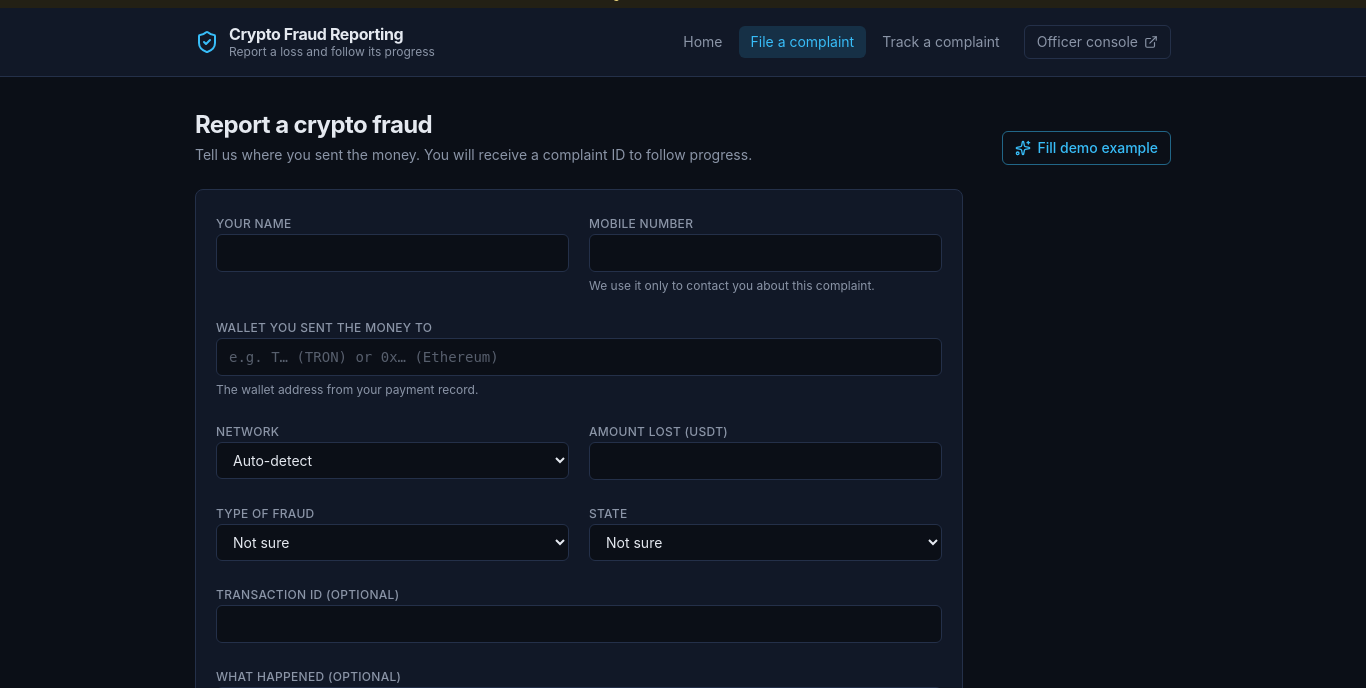
filing a complaint (citizen) › keeps Submit disabled until name, a 10 digit mobile and a wallet are given
The image size is (1366, 688).
In the field labelled "Your name": (392, 253) [216, 234, 569, 272], type "Asha"
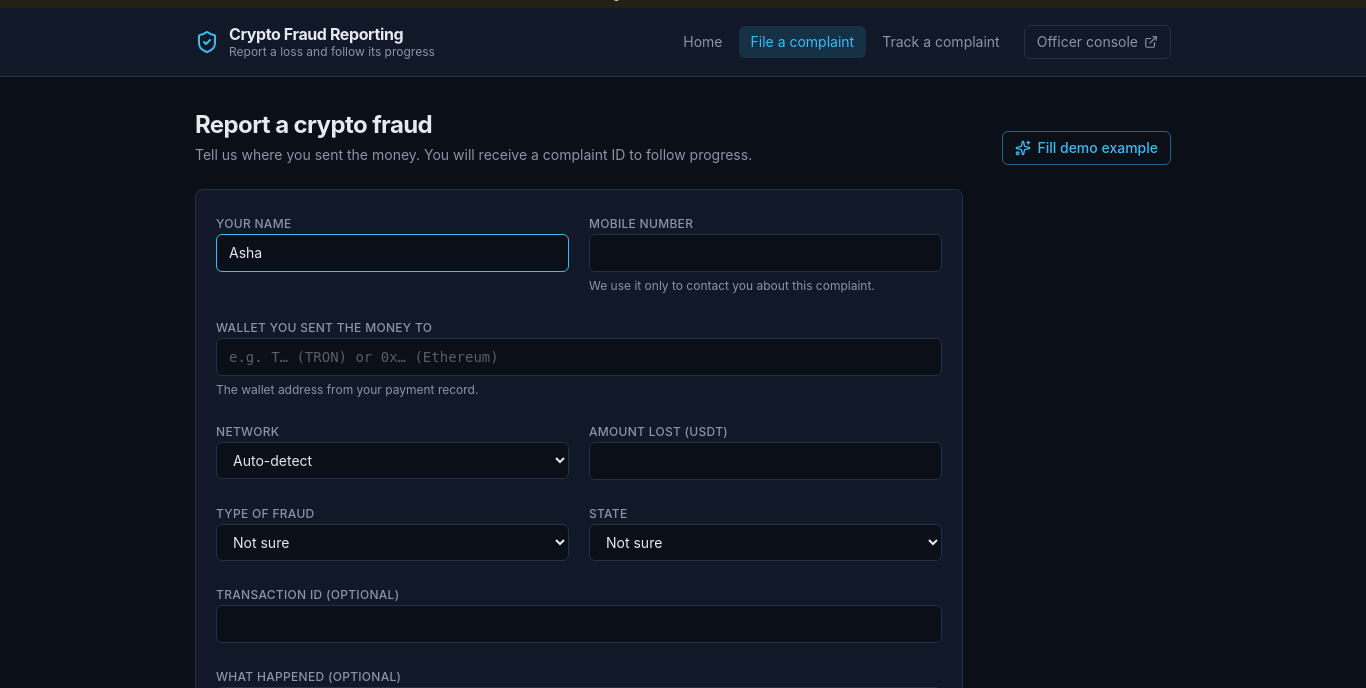
In the field labelled "Mobile number": (766, 253) [589, 234, 942, 272], type "98765"
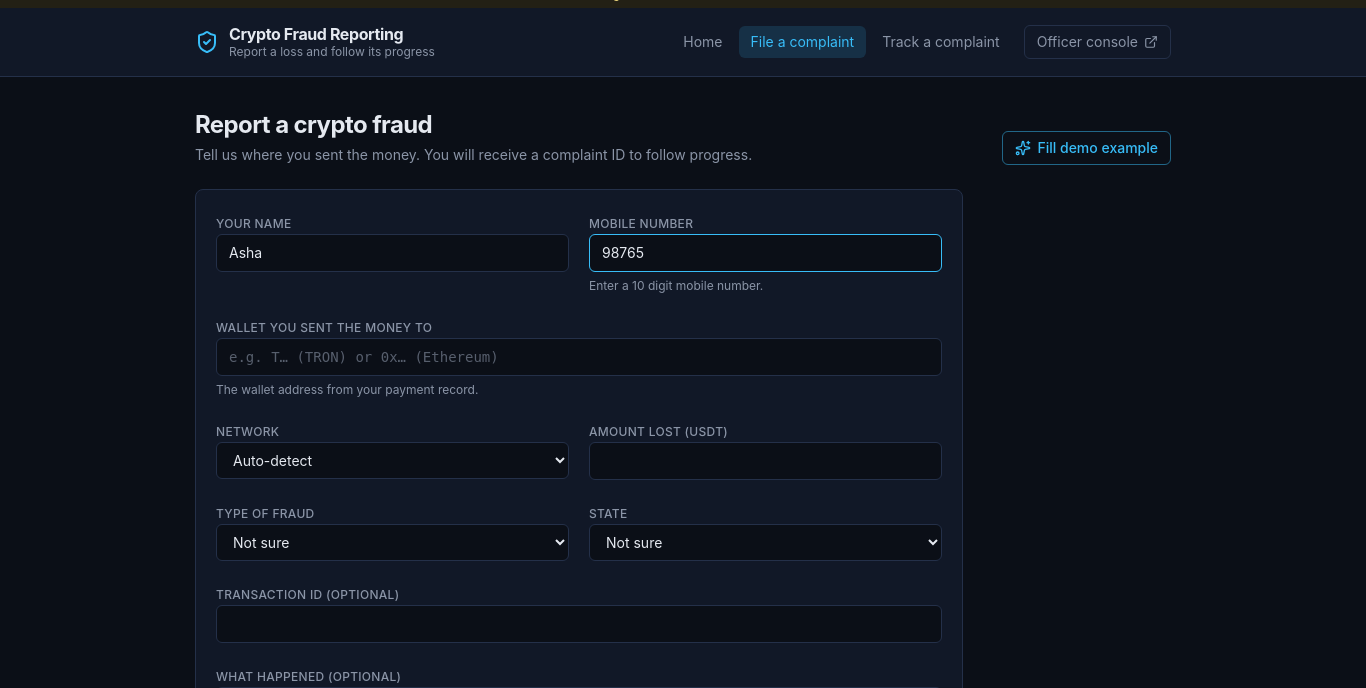
In the field labelled "Wallet you sent": (579, 357) [216, 338, 942, 376], type "TUNoHG2D7iRUtY6ra1ZubJtKe2vHqkM5jo"
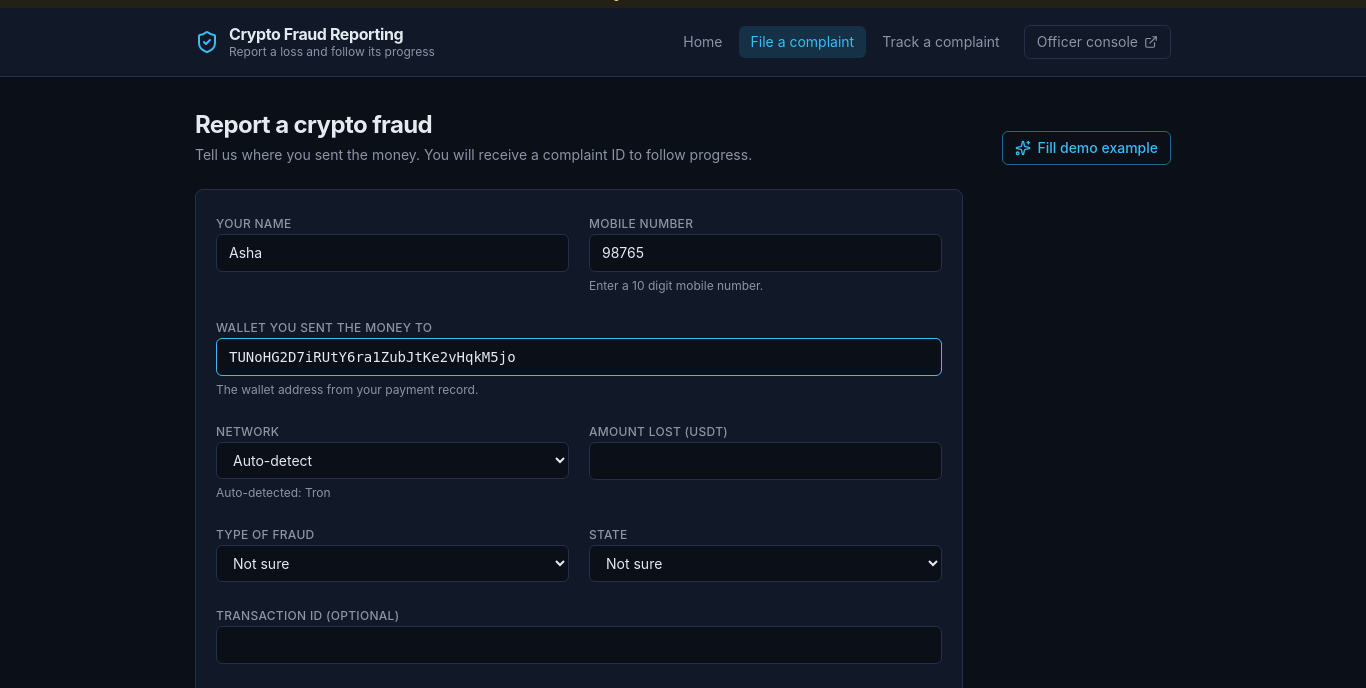
Now the text "Enter a 10 digit mobile number." is shown, box [589, 278, 763, 293]
In the field labelled "Mobile number Enter a 10 digit mobile number.": (766, 253) [589, 234, 942, 272], type "43210"
(page scrolled)
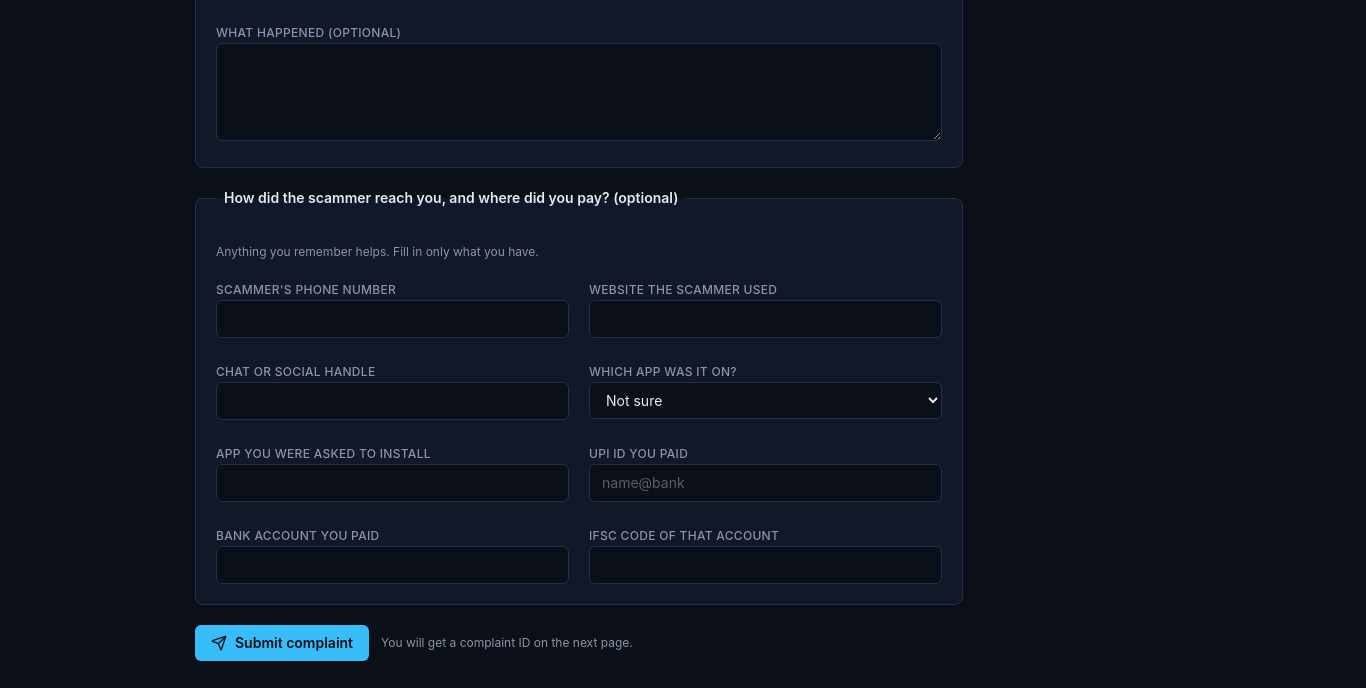
Now the button "Submit complaint" is enabled, box [195, 625, 369, 661]
